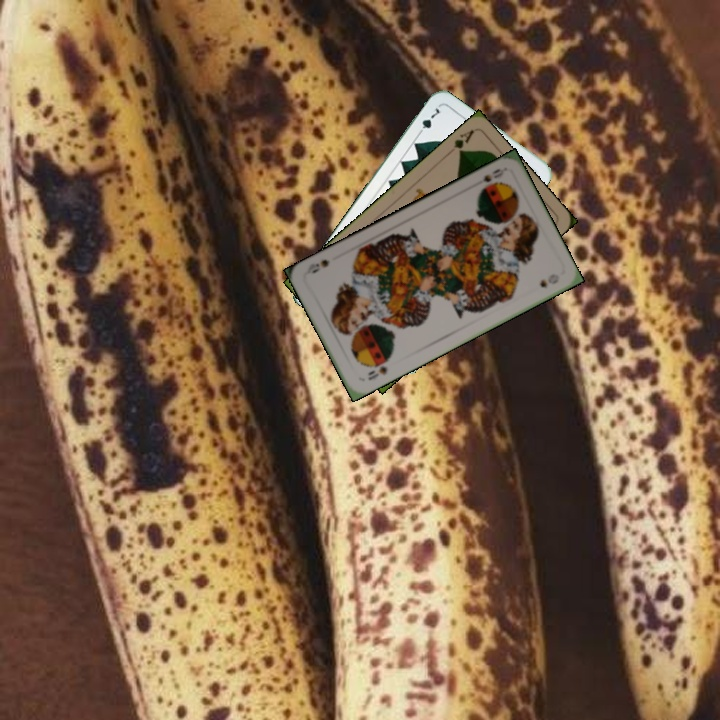G7: (413, 104, 442, 138)
GA: (443, 126, 476, 158)
SO: (363, 355, 392, 383), (479, 164, 507, 185)
